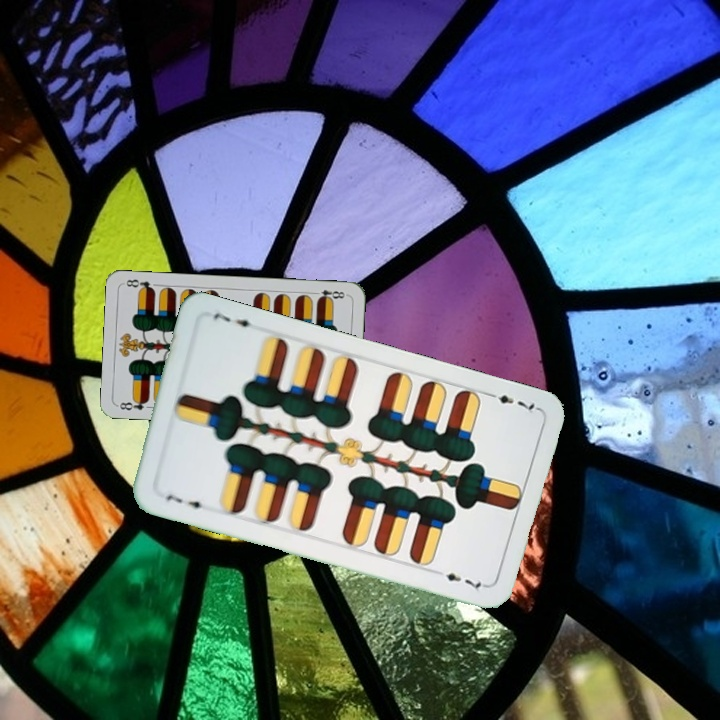E7: (482, 388, 537, 416), (161, 490, 209, 513)
E8: (309, 286, 349, 303), (116, 395, 152, 413)
